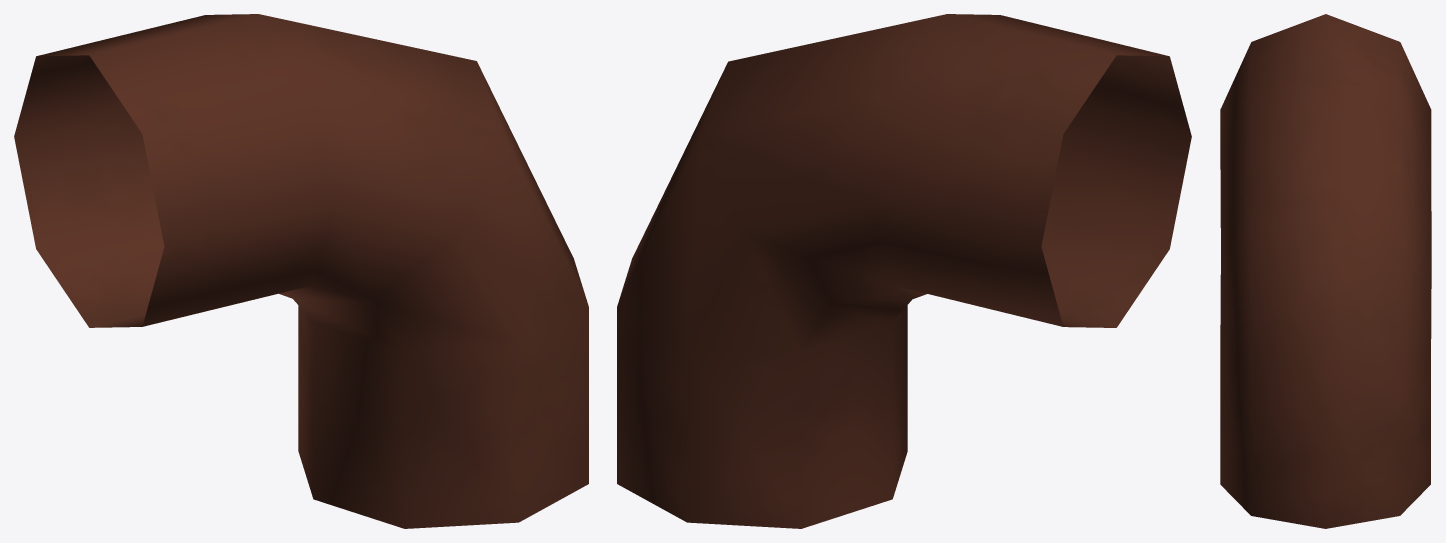
Rendered from ElbowPipe.fbx.
3 views of the same model, side by side, from view 1: azimuth 30°, elevation 25°; view 2: azimuth 150°, elevation 25°; view 3: azimuth 270°, elevation 25° (orthographic). The views are drawn at different scales.
Visible parts, largest first — view 1: ElbowPipe; view 2: ElbowPipe; view 3: ElbowPipe.
Boxes of the visible parts, x1=… form: ElbowPipe: x1=14, y1=14, x2=588, y2=528; ElbowPipe: x1=617, y1=14, x2=1191, y2=528; ElbowPipe: x1=1220, y1=14, x2=1431, y2=528.
Bounding box in the file's own units: 3.72 × 3.66 × 2.01.
